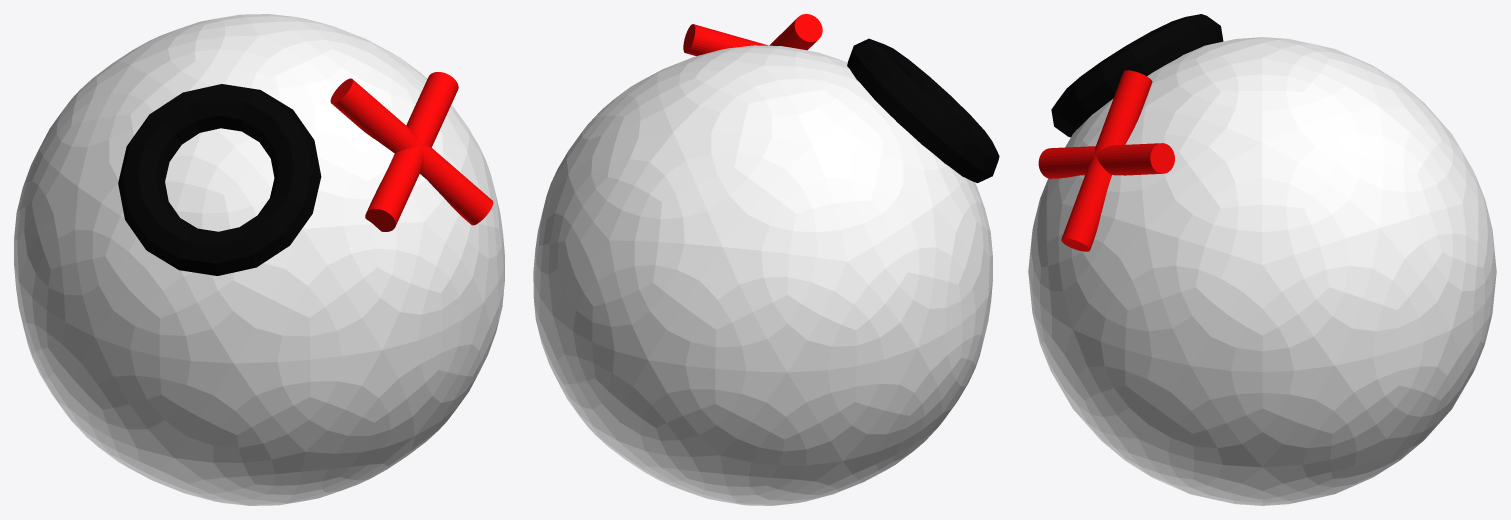
3 renders of one model, left to right at view 1: azimuth 30°, elevation 25°; view 2: azimuth 150°, elevation 25°; view 3: azimuth 270°, elevation 25°, orthographic. The views are drawn at different scales.
Visible parts, largest first — view 1: 아이코스피어, SuperToroid, 실린더; view 2: 아이코스피어, SuperToroid, 실린더; view 3: 아이코스피어, 실린더, SuperToroid.
Boxes of the visible parts, left/top/right/bottom form: 아이코스피어: left=14, top=14, right=504, bottom=505; SuperToroid: left=118, top=84, right=321, bottom=275; 실린더: left=330, top=72, right=493, bottom=231; 아이코스피어: left=533, top=45, right=992, bottom=505; SuperToroid: left=847, top=38, right=999, bottom=183; 실린더: left=683, top=14, right=822, bottom=56; 아이코스피어: left=1028, top=37, right=1496, bottom=505; 실린더: left=1038, top=70, right=1174, bottom=251; SuperToroid: left=1051, top=14, right=1223, bottom=137.
Size of the model in its own units: 1.85 by 1.86 by 1.85.
3 materials, 3 textured.
